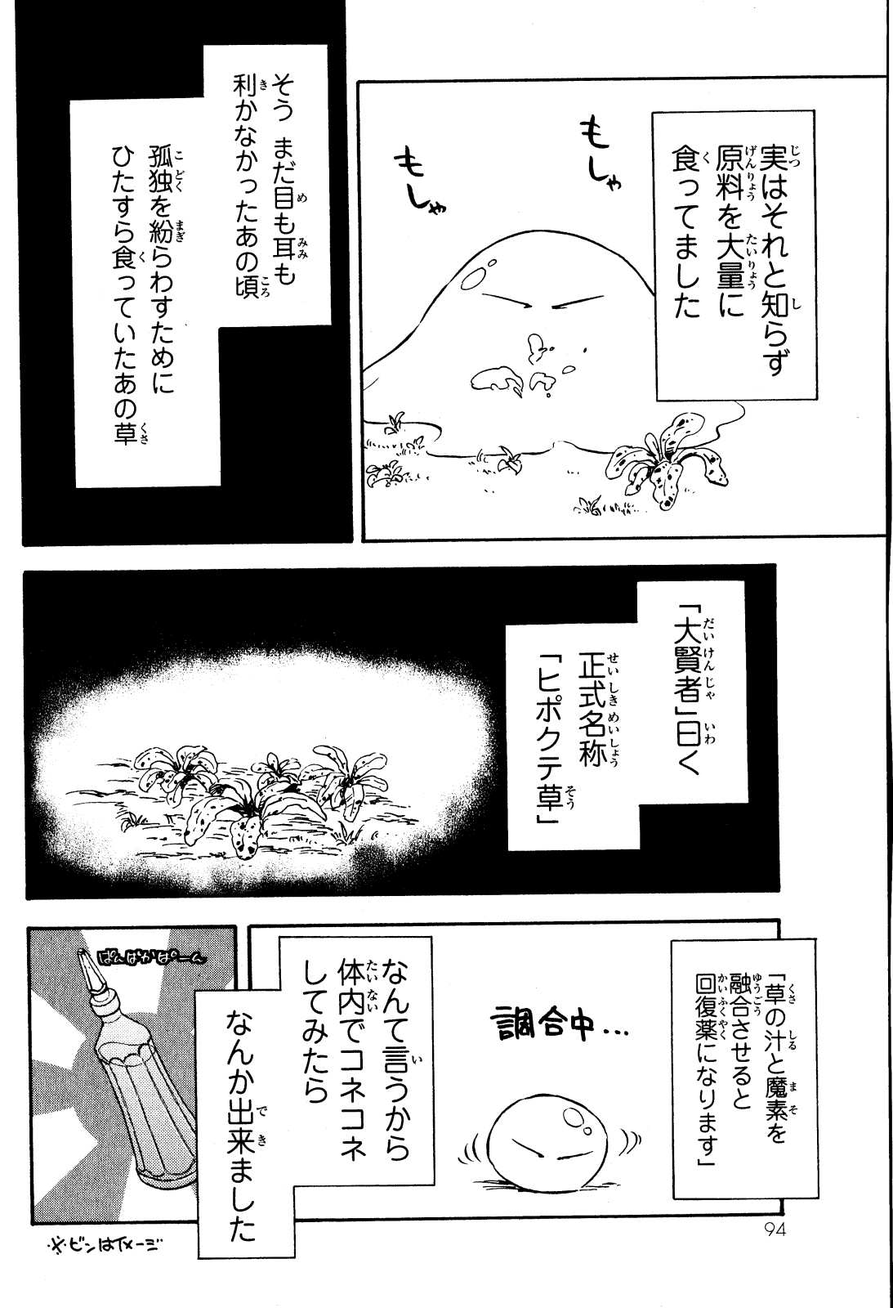bubbles: (40, 38, 339, 496), (191, 932, 442, 1264), (482, 577, 762, 857), (645, 106, 828, 407), (666, 934, 825, 1204)
